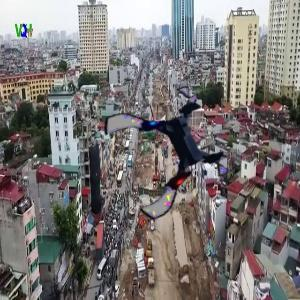drone: (110, 96, 227, 213)
